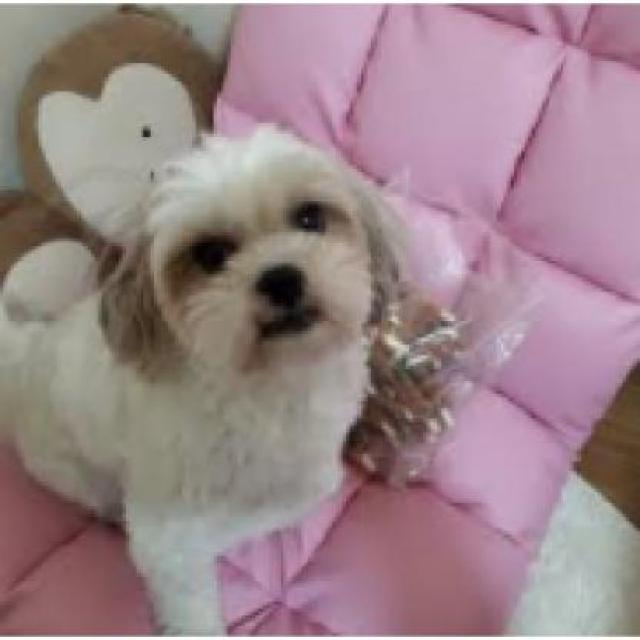Dog: (2, 118, 404, 630)
